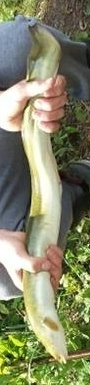Anguilla anguilla: (20, 20, 70, 365)
